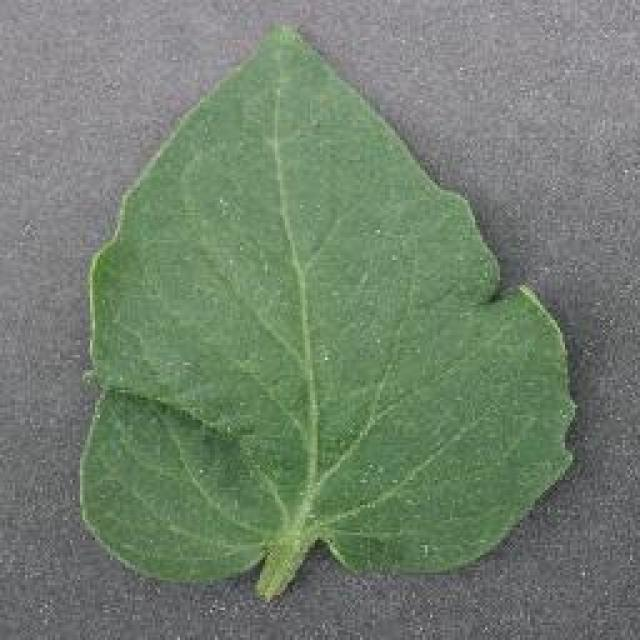Tomato_Healthy: (67, 22, 583, 577)
